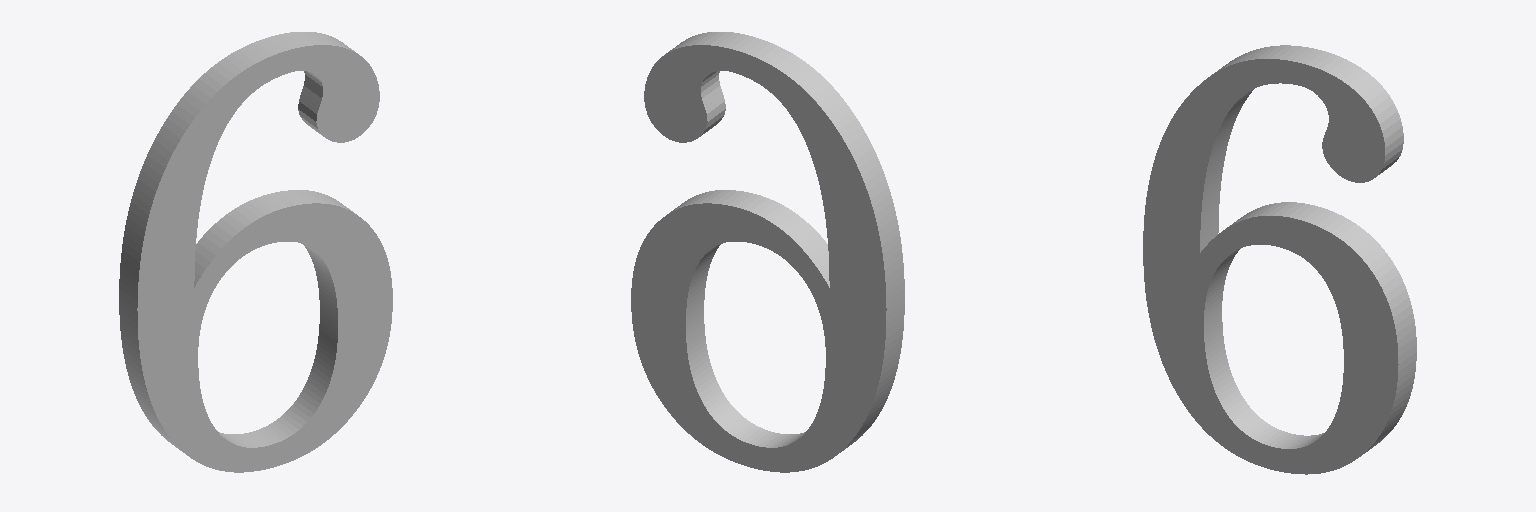
3 renders of one model, left to right at view 1: azimuth 30°, elevation 25°; view 2: azimuth 150°, elevation 25°; view 3: azimuth 330°, elevation 25°, orthographic.
Visible parts, largest first — view 1: mmGroup0.004; view 2: mmGroup0.004; view 3: mmGroup0.004.
Part boxes in pixels (left/top/right/bottom): mmGroup0.004: left=119, top=32, right=392, bottom=472; mmGroup0.004: left=631, top=32, right=904, bottom=472; mmGroup0.004: left=1143, top=45, right=1416, bottom=474.
Bounding box in the file's own units: 4.82 × 7.46 × 0.6.